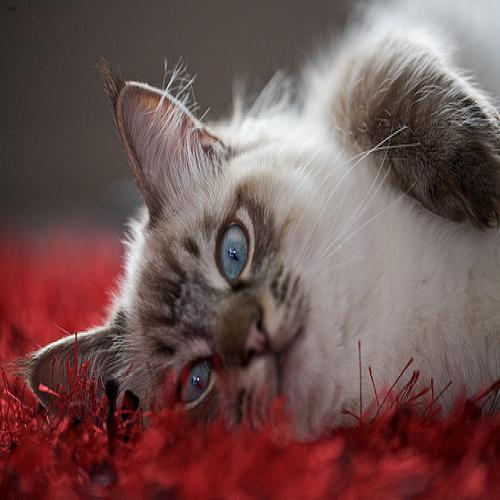ragdoll: (26, 58, 333, 451)
